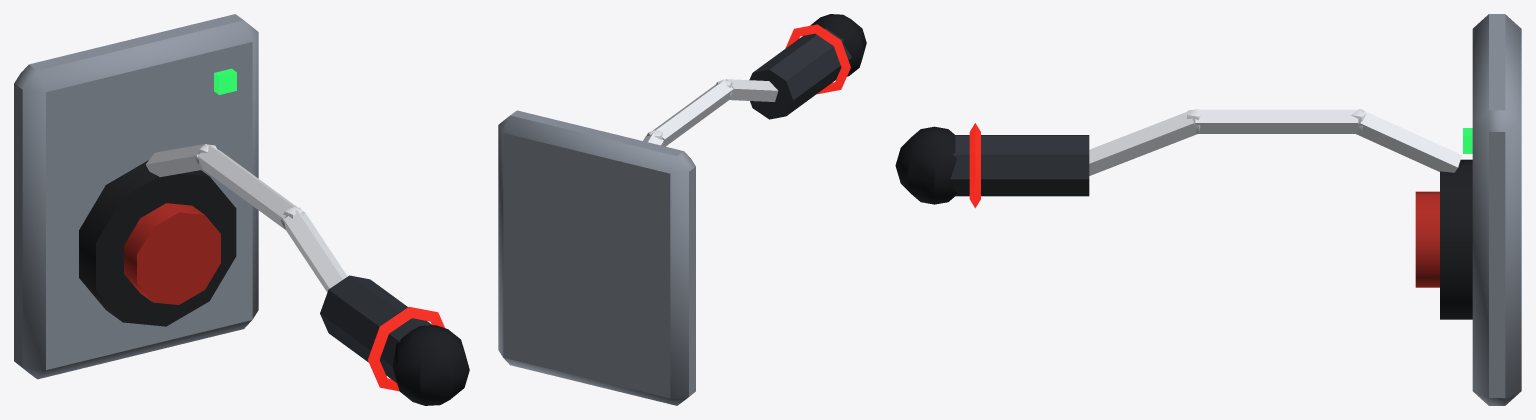
Rendered from commsunit_wall_microphone.glb.
The picture shows the model from 3 angles, left to right: view 1: azimuth 30°, elevation 25°; view 2: azimuth 150°, elevation 25°; view 3: azimuth 270°, elevation 25°; orthographic projection. The views are drawn at different scales.
Parts seen in each view (by area): view 1: commsunit_wall_microphone; view 2: commsunit_wall_microphone; view 3: commsunit_wall_microphone.
Boxes of the visible parts, x1=… form: commsunit_wall_microphone: x1=14, y1=14, x2=469, y2=405; commsunit_wall_microphone: x1=498, y1=14, x2=866, y2=405; commsunit_wall_microphone: x1=895, y1=14, x2=1521, y2=405.
Size of the model in its own units: 0.16 by 0.2 by 0.384.
